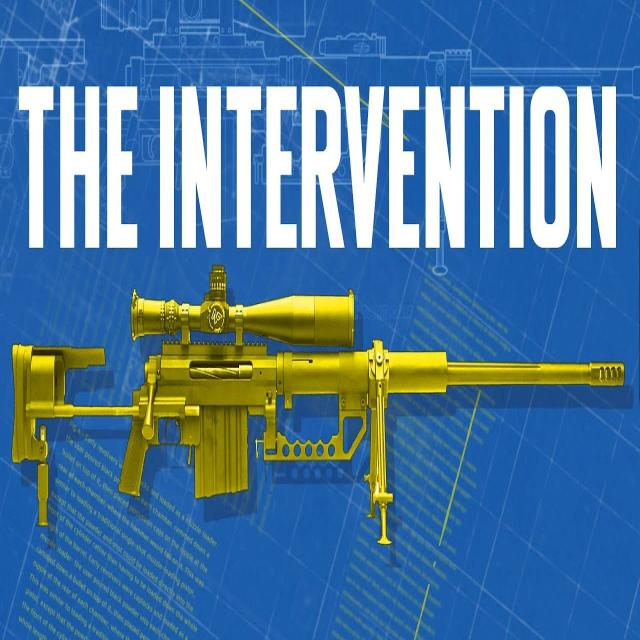Rifle: (10, 267, 628, 527)
